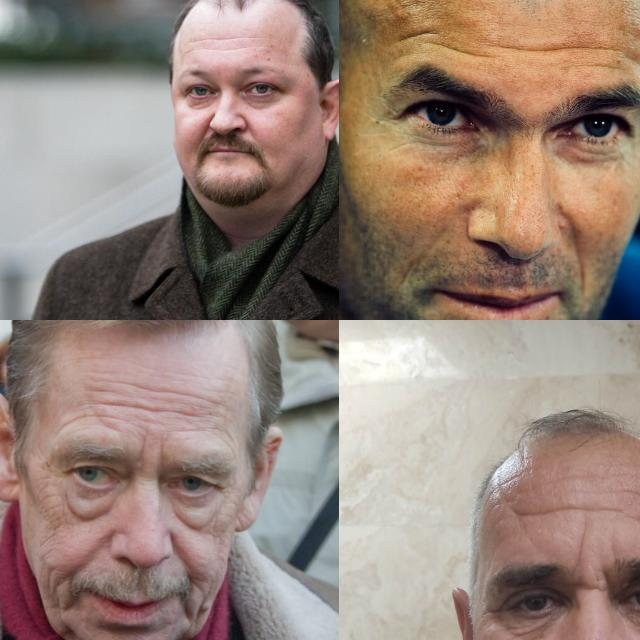crows_feet: (40, 479, 66, 515), (481, 598, 504, 622), (221, 480, 239, 510)
forehead: (506, 34, 632, 72), (398, 26, 488, 62), (160, 387, 224, 431), (77, 383, 149, 417), (507, 494, 561, 522), (566, 496, 620, 522), (215, 43, 243, 57), (185, 41, 207, 57), (629, 480, 640, 512), (218, 31, 240, 45), (191, 33, 215, 45), (630, 506, 640, 533)
frown_line: (570, 532, 592, 574), (138, 434, 166, 466)
gummy_smile: (562, 216, 590, 274), (200, 115, 212, 145)
masseter: (42, 562, 62, 608), (190, 578, 210, 620)
